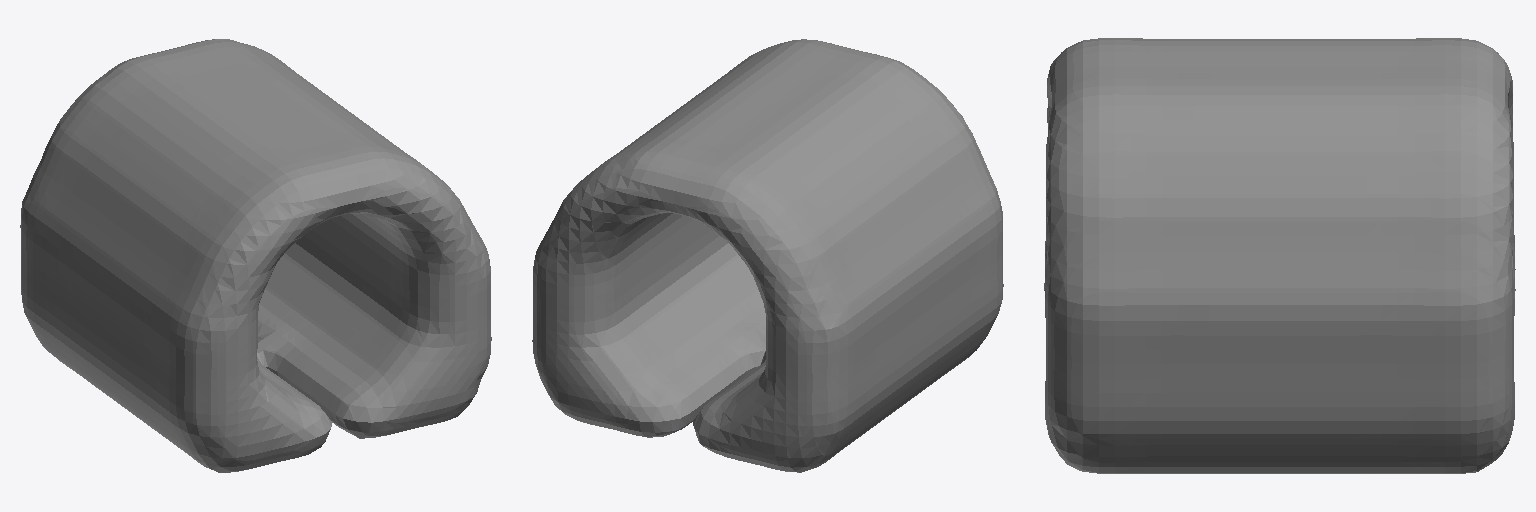
The robot description file, URDF, robot "cube.urdf":
<?xml version="0.0" ?> 
<robot name="cube.urdf"> 
<link name="legobrick"> 
<contact> 
<lateral_friction value="5.0"/> 
<rolling_friction value="0.0"/> 
<contact_cfm value="0.0"/> 
<contact_erp value="1.0"/> 
</contact> 
<inertial> 
<origin rpy="0 0 0" xyz="0.0 0.0 0.0"/> 
<mass value=".01"/> 
<inertia ixx="1" ixy="0" ixz="0" iyy="1" iyz="0" izz="1"/> 
</inertial> 
<visual> 
<origin rpy="1.570796 0 0" xyz="-0.02800726890891643 0.02800458489679542 -0.020707040747353432"/> 
<geometry> 
<mesh filename="M05_2.obj" scale="0.0006128558707722236 0.0006128558707722236 0.0006128558707722236"/> 
</geometry> 
<material name="yellow"> 
<color rgba="0.6 0.6 0.6 1"/> 
</material> 
</visual> 
<collision> 
<origin rpy="1.570796 0 0" xyz="-0.02800726890891643 0.02800458489679542 -0.020707040747353432"/> 
<geometry> 
<mesh filename="M05_2.obj" scale="0.0006128558707722236 0.0006128558707722236 0.0006128558707722236"/> 
</geometry> 
</collision> 
</link> 
</robot>

--- Render facts (derived) ---
The picture shows the robot from 3 angles, left to right: view 1: azimuth 30°, elevation 25°; view 2: azimuth 150°, elevation 25°; view 3: azimuth 270°, elevation 25°; orthographic projection.
Model cube.urdf with 1 links and 0 joints (none), rooted at legobrick, posed every joint at zero.
Visible links, largest first — view 1: legobrick; view 2: legobrick; view 3: legobrick.
Boxes of the visible links, x1,y1,x2,y2 form: legobrick: [20, 39, 491, 472]; legobrick: [532, 39, 1003, 472]; legobrick: [1044, 38, 1515, 473].
Bounding box of the posed robot: 0.056 × 0.0609 × 0.049 m (x, y, z).
1 mesh visuals loaded from 1 distinct referenced files (1 OBJ).
